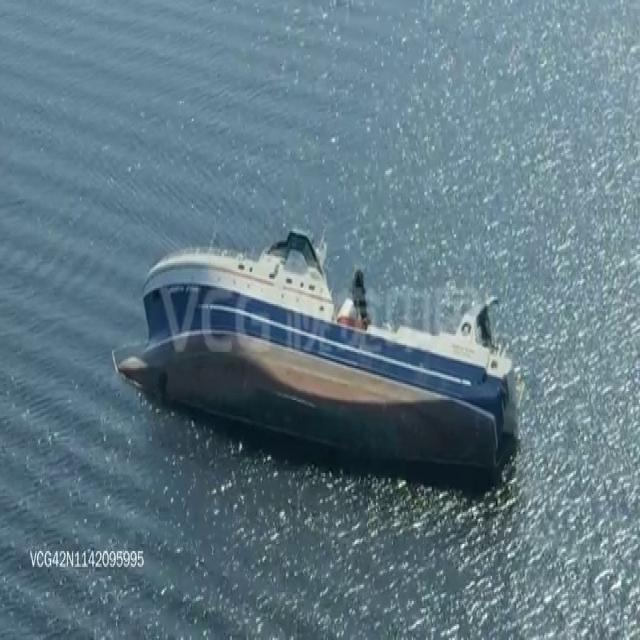passenger ship: (104, 226, 520, 469)
